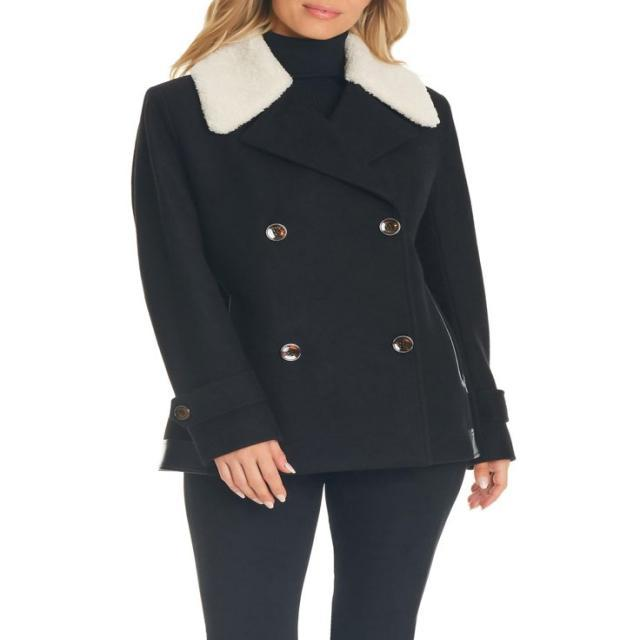coat: (142, 31, 518, 481)
sweater: (258, 26, 354, 122)
trousers: (178, 463, 468, 640)
